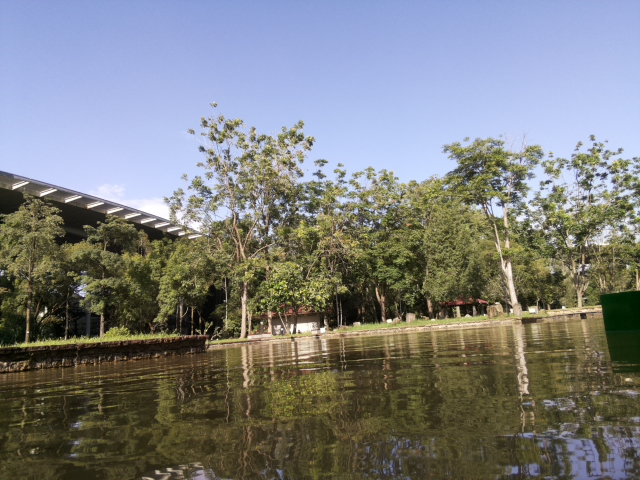obstacle: (598, 289, 640, 333)
